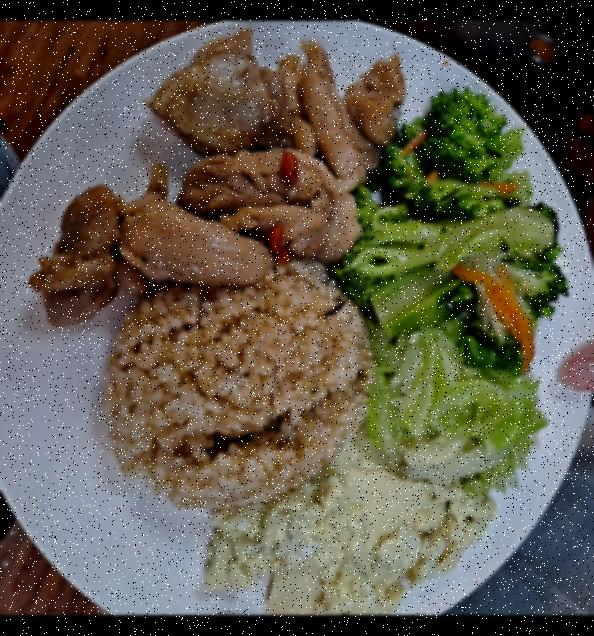brown rice: (98, 257, 384, 504)
herbal chicken: (17, 33, 414, 328)
plate: (0, 21, 594, 615)
side dish: (348, 92, 574, 364), (192, 459, 495, 611), (361, 329, 546, 502)
